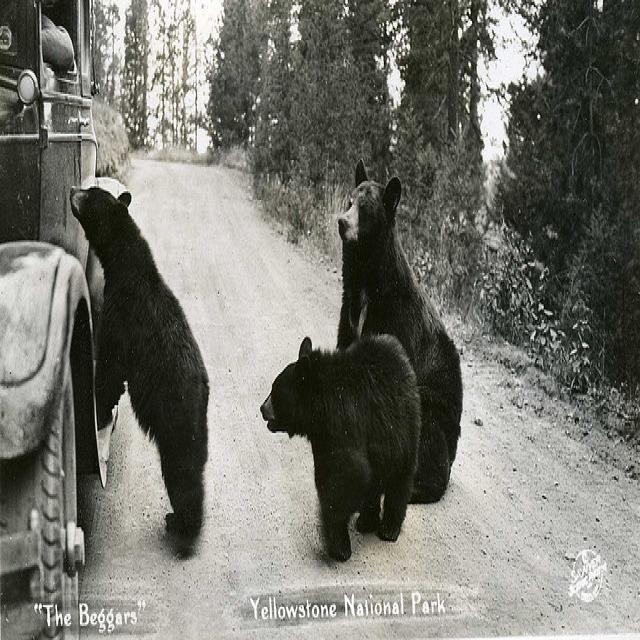Vehicle: (0, 0, 130, 631)
